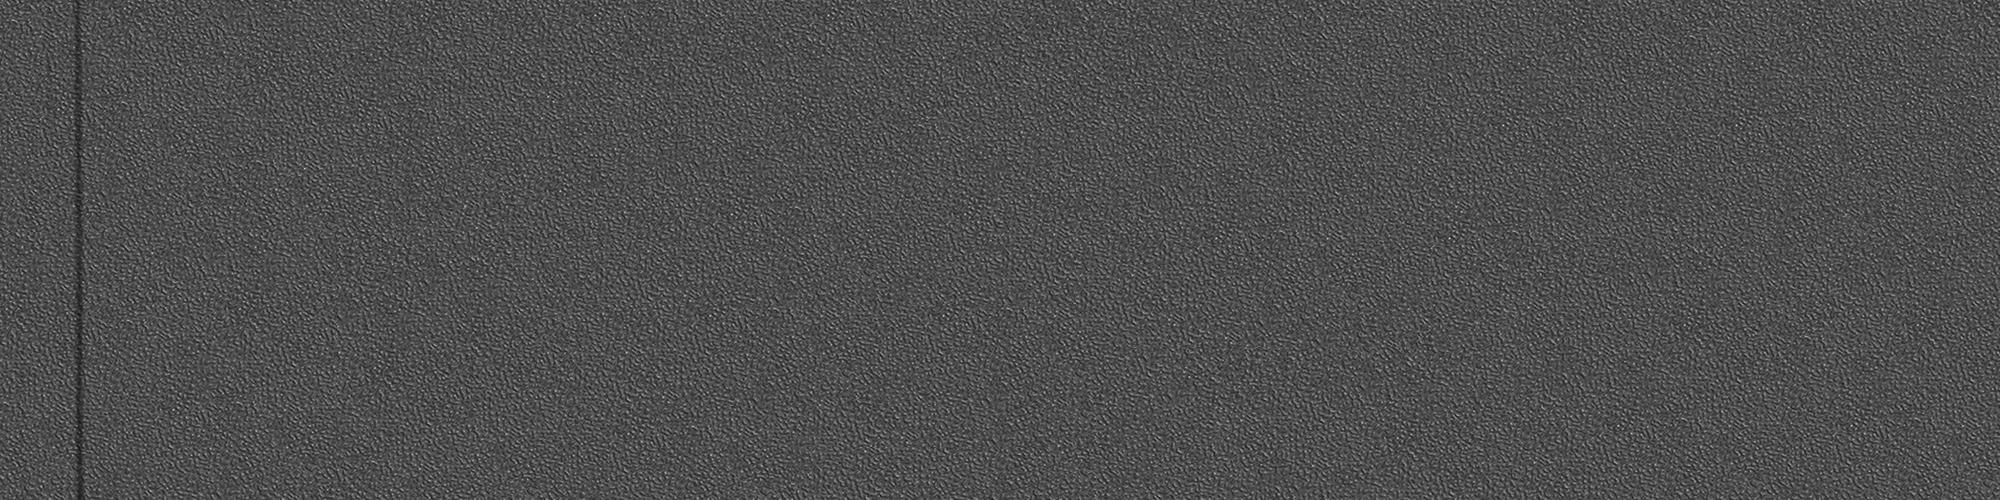DieDrag: (61, 3, 99, 497)
